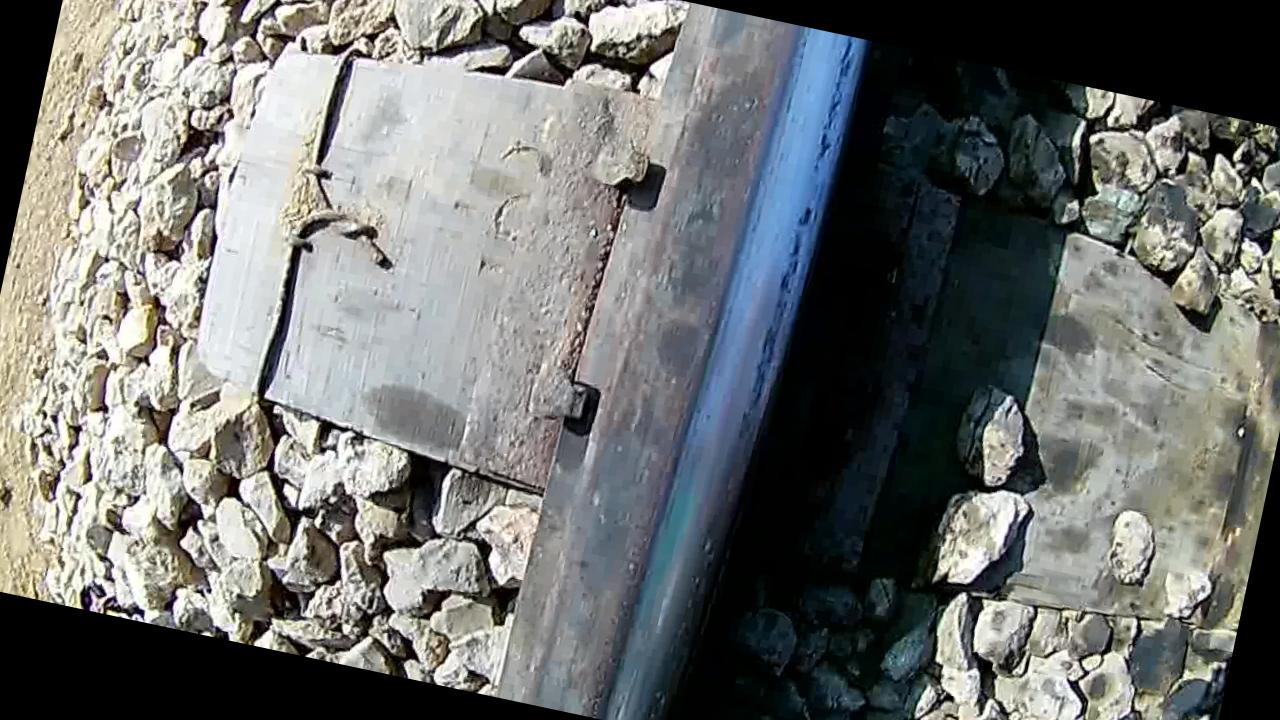crack: (537, 2, 870, 720)
